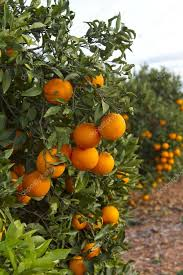orange: (32, 148, 65, 178), (22, 171, 50, 198), (98, 113, 126, 139), (42, 79, 72, 102), (72, 147, 99, 171), (70, 122, 98, 145), (93, 151, 114, 176), (98, 205, 121, 223)
